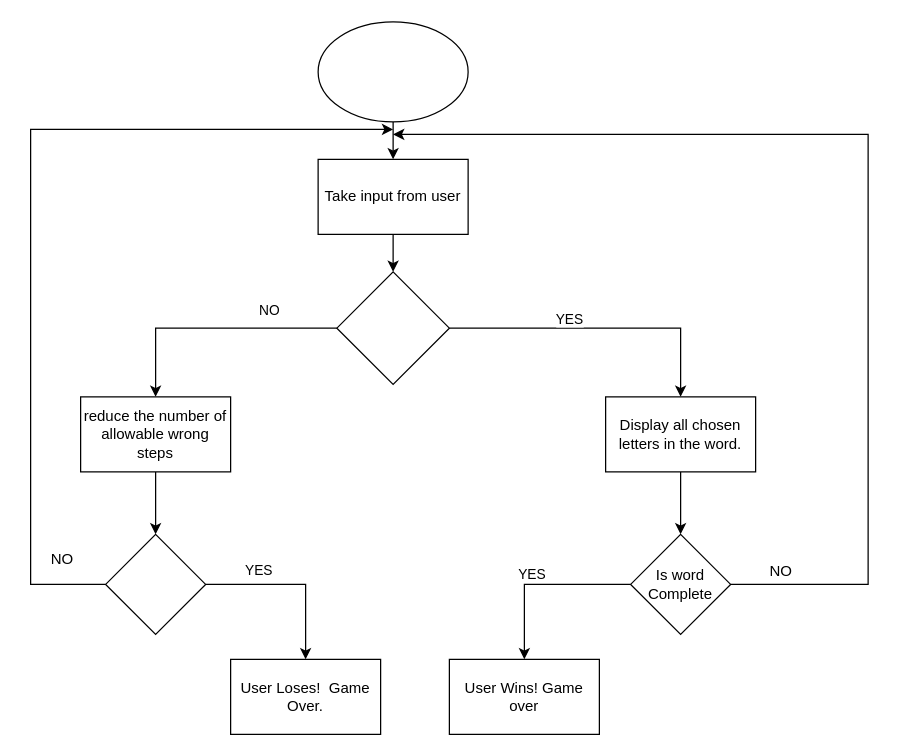
Some shapes in this 900 by 756 pixel diagram are drawn without their labels. The centre of each missing label's shape, as x and y in pixels:
"Are All steps Exhausted" goes at (x=155, y=583).
"if letter is present in word" goes at (x=392, y=327).
"START" goes at (x=392, y=71).
